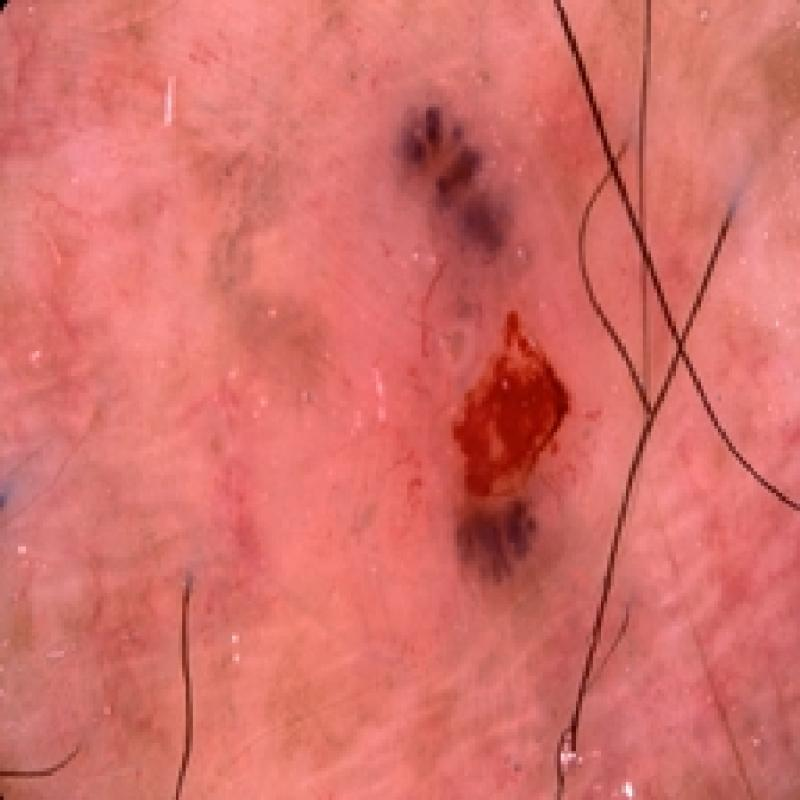malignant: (297, 97, 606, 638)
